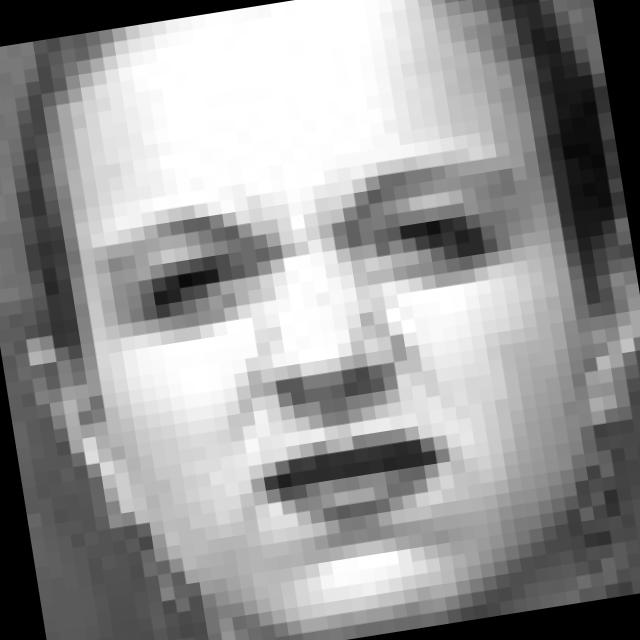disgust: (100, 149, 566, 592)
